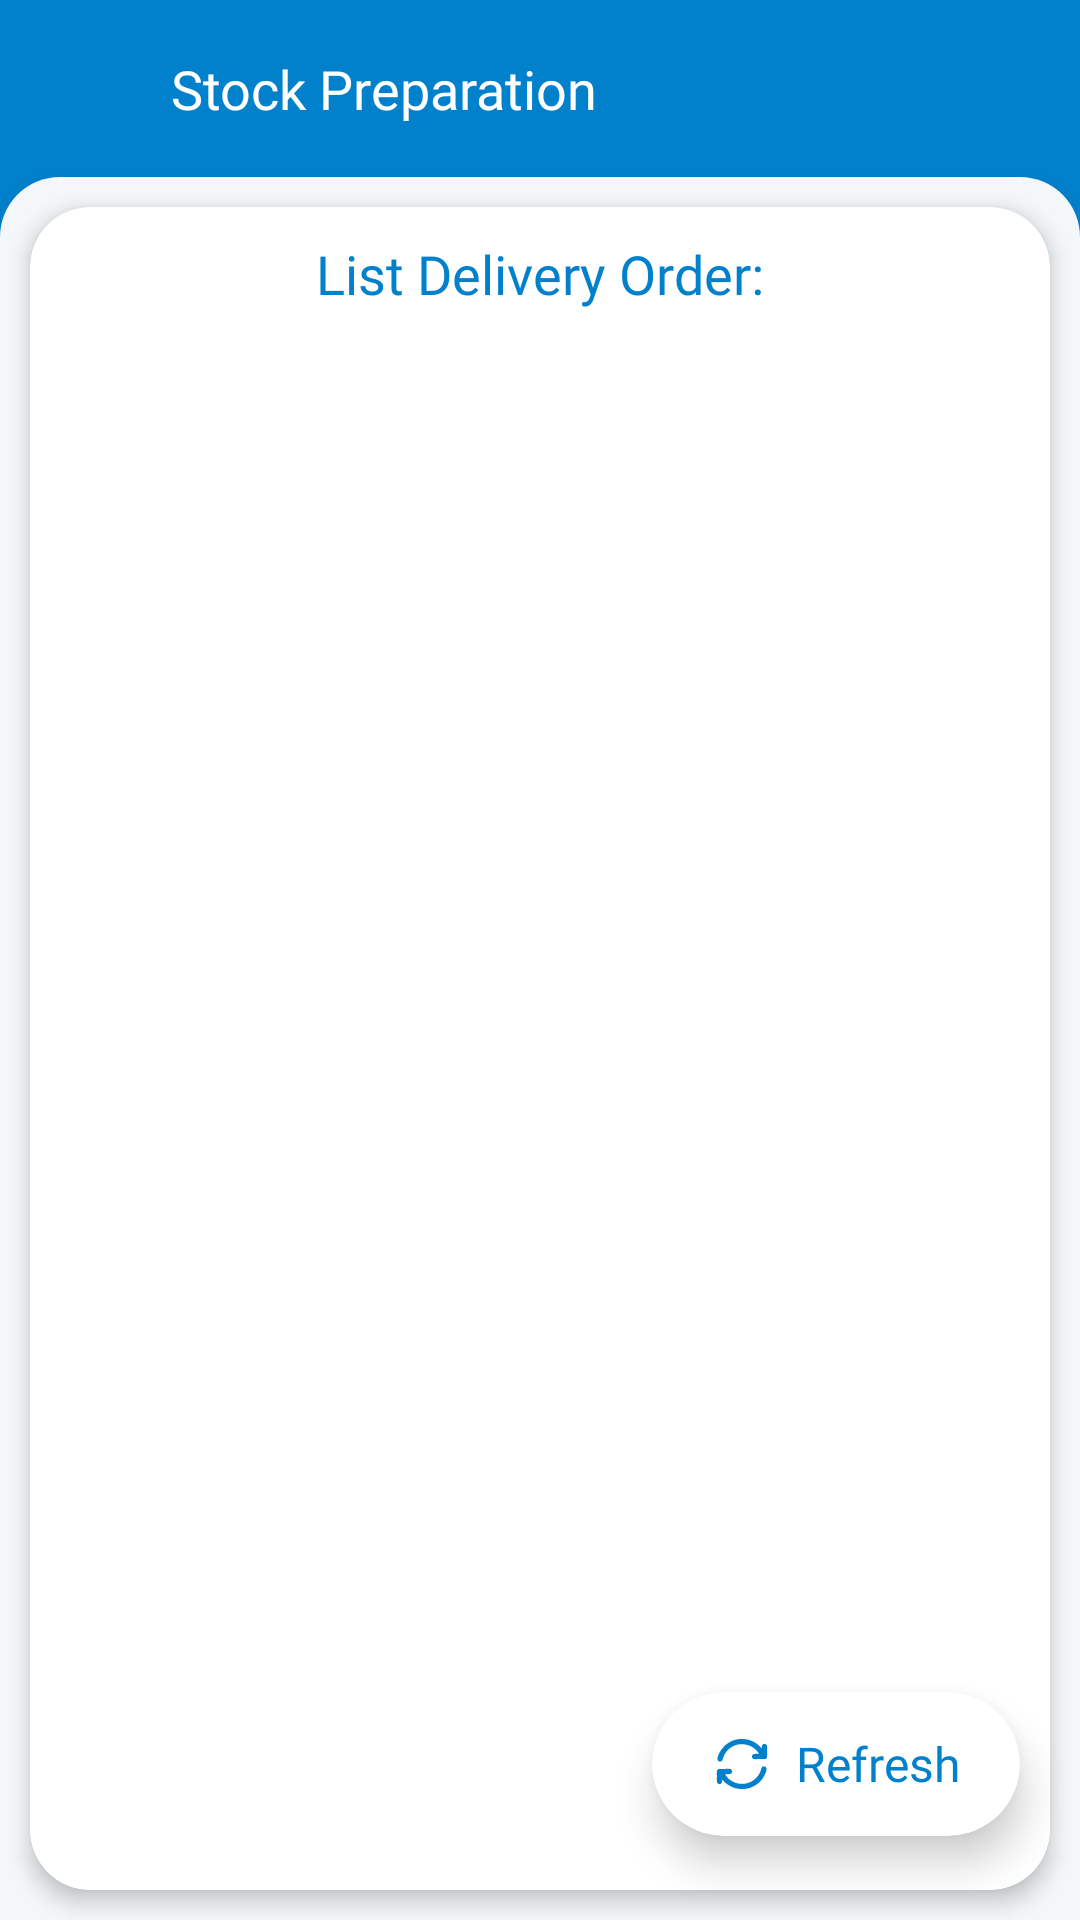

Named icons in this screenshot (1080x1920) and their bounding boxes, [x1=x1, y1=y1, x2=x2, y2=y2]:
reload: [x1=716, y1=1739, x2=768, y2=1789]
